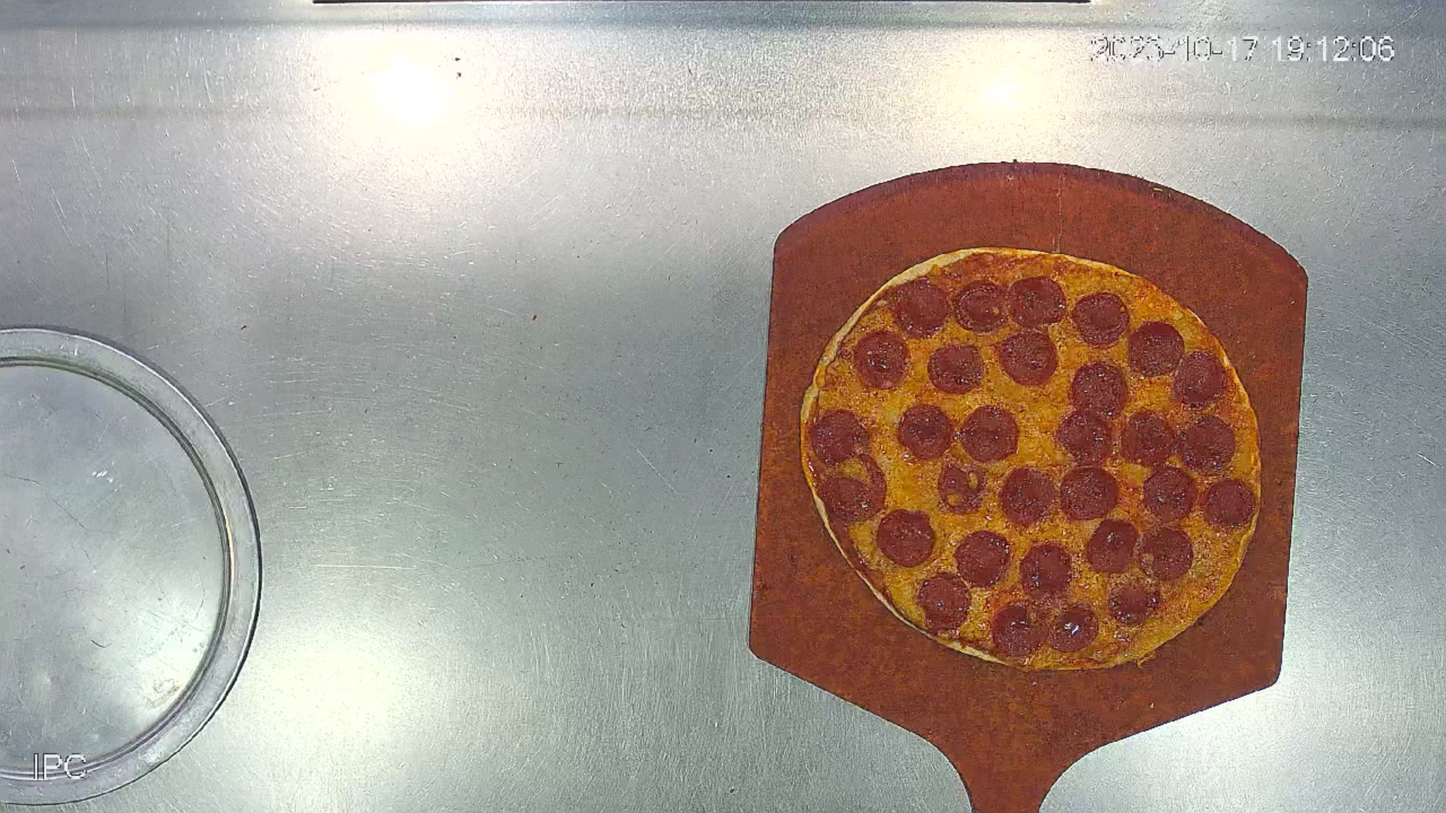pepperoni: (796, 244, 1267, 678)
